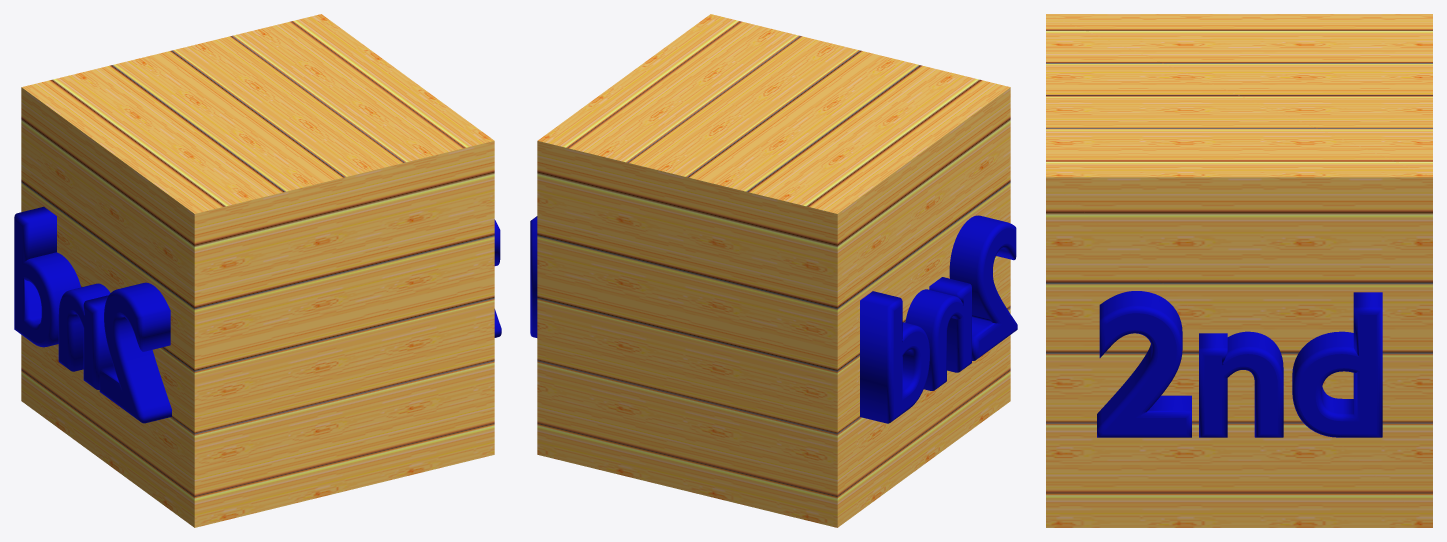
The model's file is stage_2.obj.
3 views of the same model, side by side, from view 1: azimuth 30°, elevation 25°; view 2: azimuth 150°, elevation 25°; view 3: azimuth 270°, elevation 25° (orthographic). The views are drawn at different scales.
Visible parts, largest first — view 1: Cube; view 2: Cube; view 3: Cube.
Part boxes in pixels (box(x1,y1,x2,y2)): Cube: box(14, 14, 501, 527); Cube: box(530, 14, 1017, 527); Cube: box(1046, 14, 1432, 527).
Bounding box in the file's own units: 2.42 × 2 × 2.
